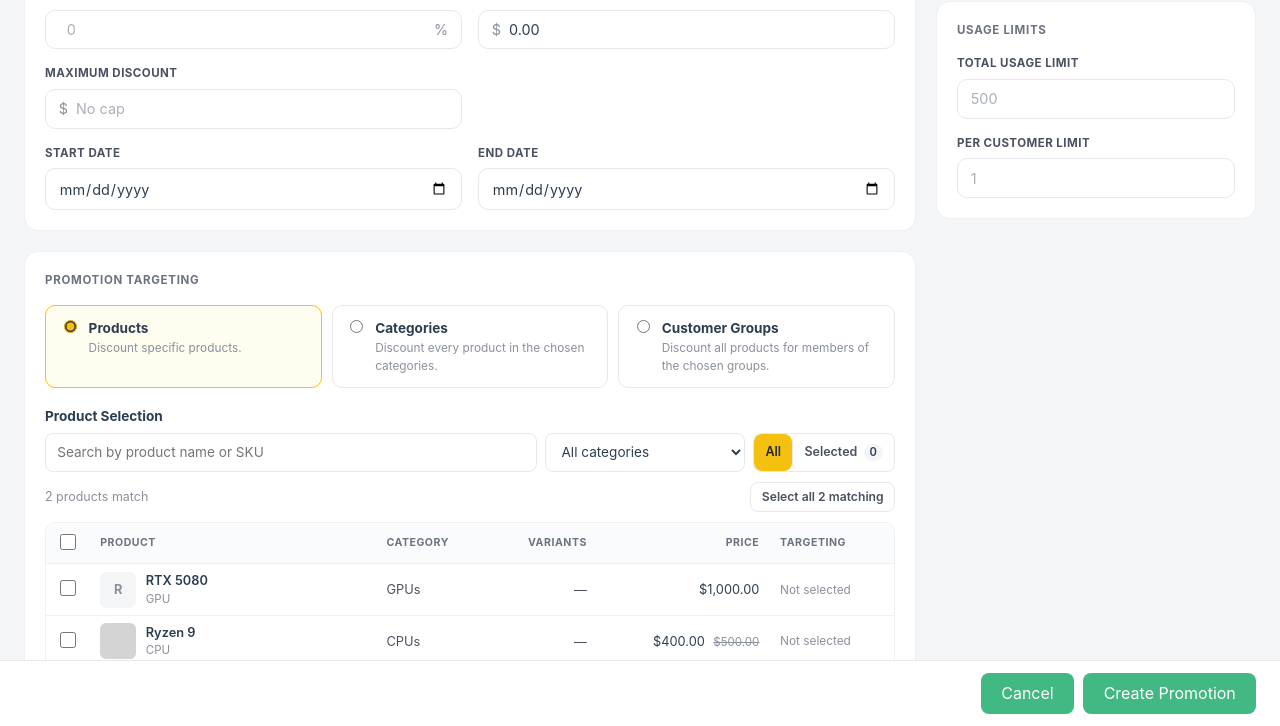
Test: PromotionFormView — targeting › blocks saving without a target and says what is missing
The width and height of the screenshot is (1280, 726).
(page scrolled)
Click the 3rd radio button. click: coordinates (643, 326)
box: top-left (637, 320), bottom-right (650, 333)
(page scrolled)
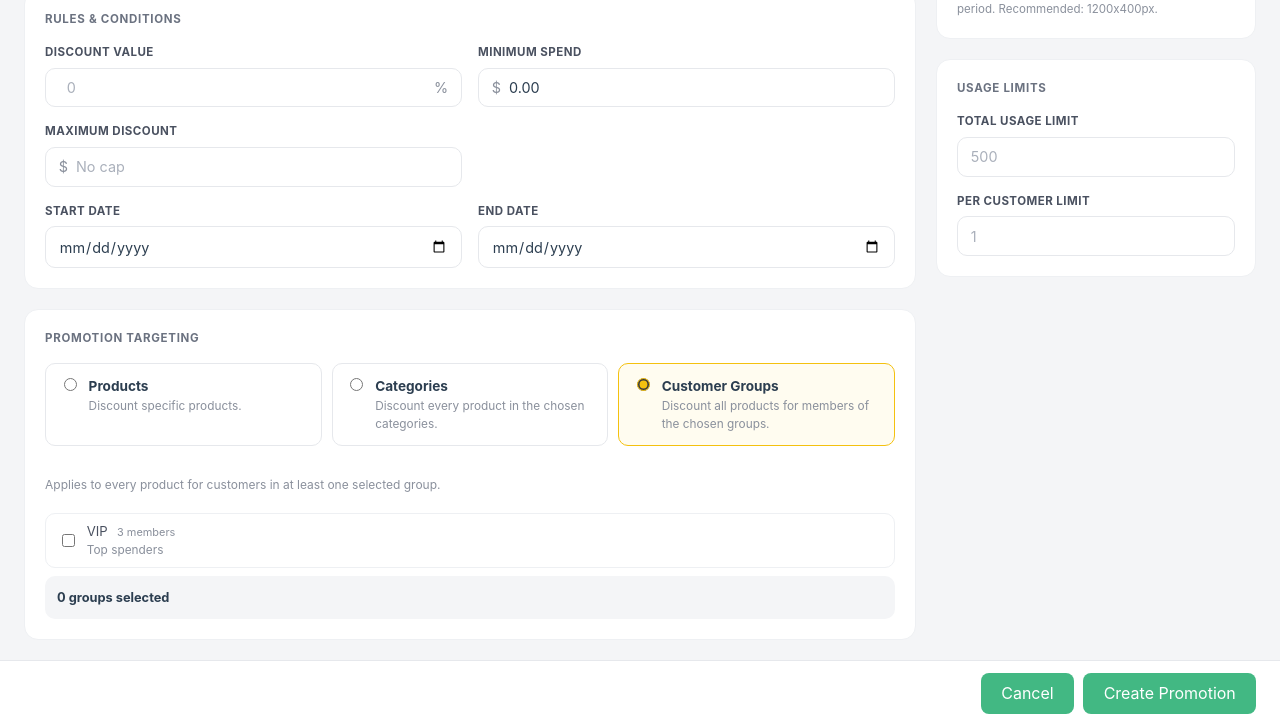
Click the button "Create Promotion". click: coordinates (1170, 693)
box: top-left (1084, 673), bottom-right (1256, 714)
(page scrolled)
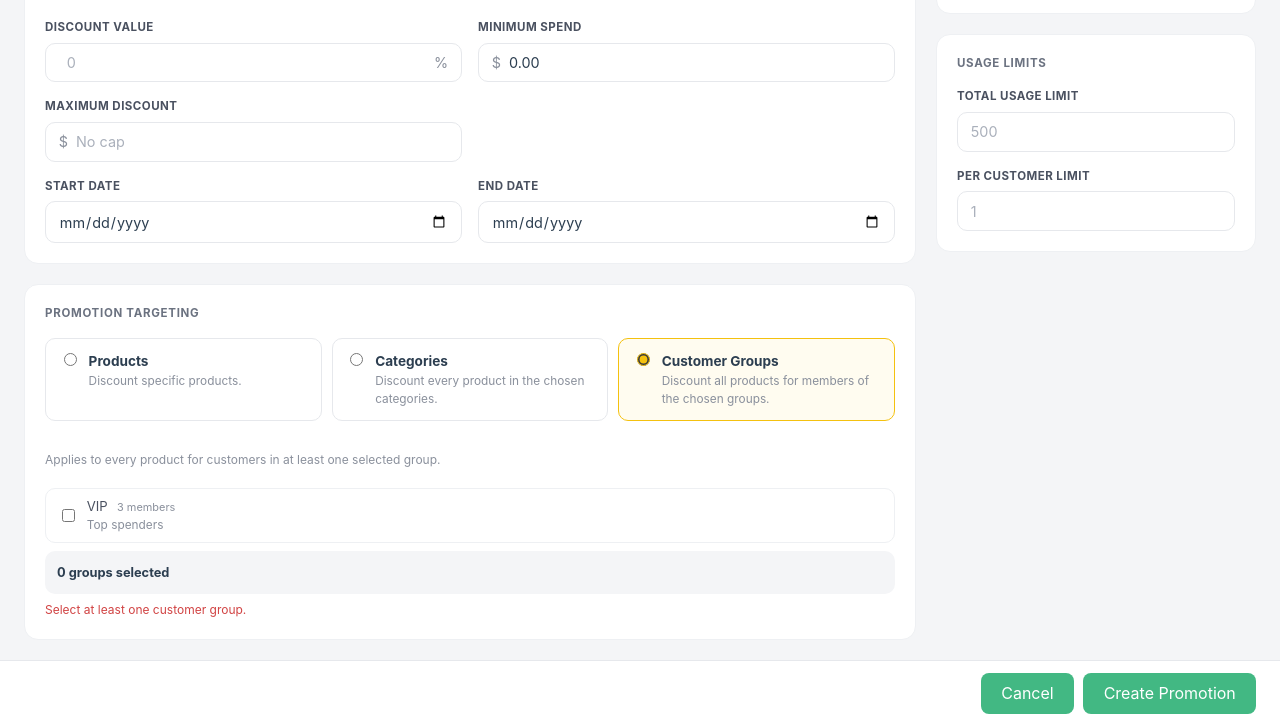
expect the text "Select at least one customer group." is shown: met, box top-left (45, 602), bottom-right (246, 617)
